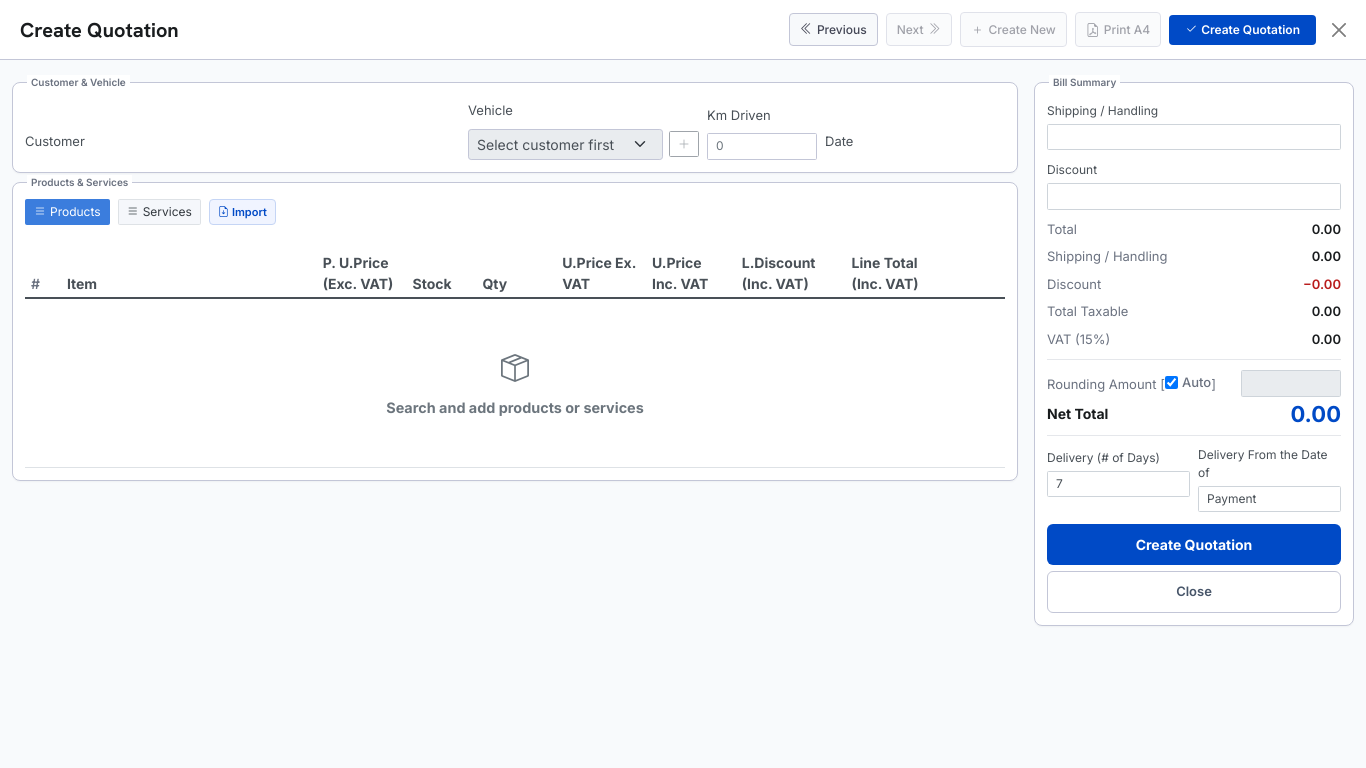
Test: Quotation form type 3: Import dropdown (integration) › offers From Quotations, From Purchases, From Sales and the P.O. option
Click the button with test id "import-dropdown-btn". click: (242, 212)
box: [209,198,276,225]
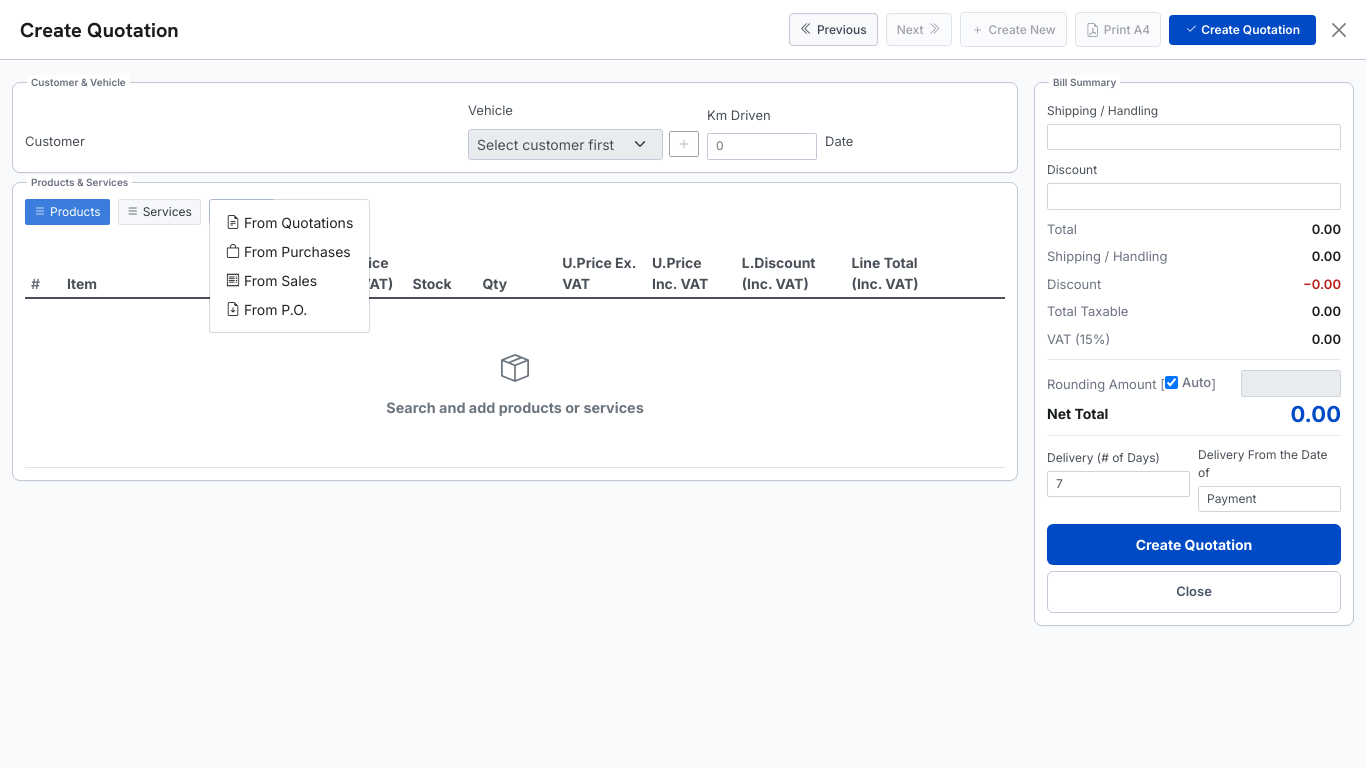
Expected: the button with test id "import-from-quotation-btn" is shown, [226,214,353,230]
Expected: the button with test id "import-from-purchase-btn" is shown, [226,242,351,260]
Expected: the button with test id "import-from-sales-btn" is shown, [226,272,317,288]
